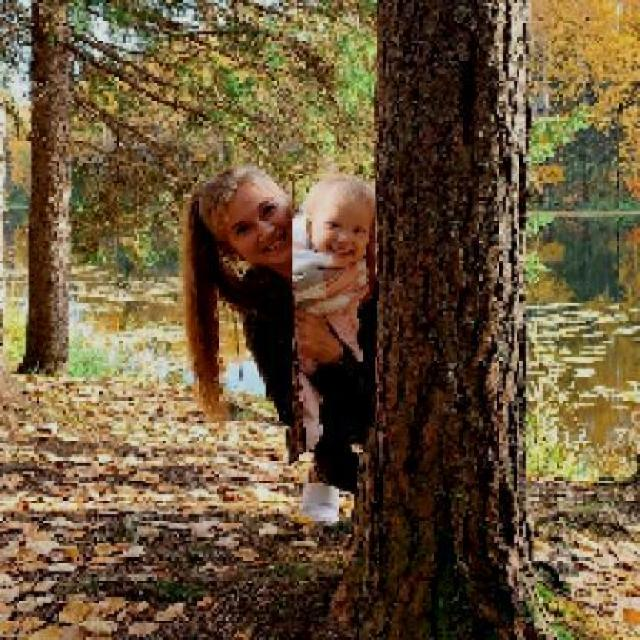child: (291, 174, 375, 454)
